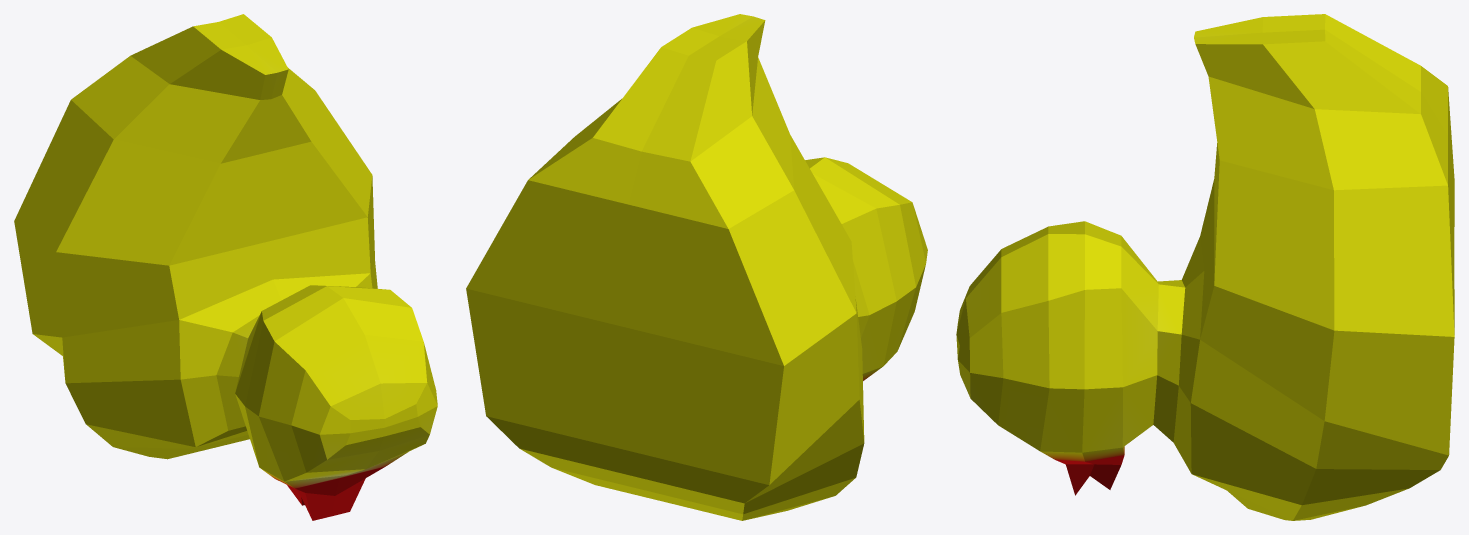
The model's file is lilly.gltf.
3 renders of one model, left to right at view 1: azimuth 30°, elevation 25°; view 2: azimuth 150°, elevation 25°; view 3: azimuth 270°, elevation 25°, orthographic. The views are drawn at different scales.
Visible parts, largest first — view 1: Plane; view 2: Plane; view 3: Plane.
Boxes of the visible parts, x1,y1,x2,y2 form: Plane: (14, 14, 437, 520); Plane: (466, 14, 927, 520); Plane: (956, 14, 1454, 520).
Bounding box in the file's own units: 2.93 × 3.66 × 3.61.
